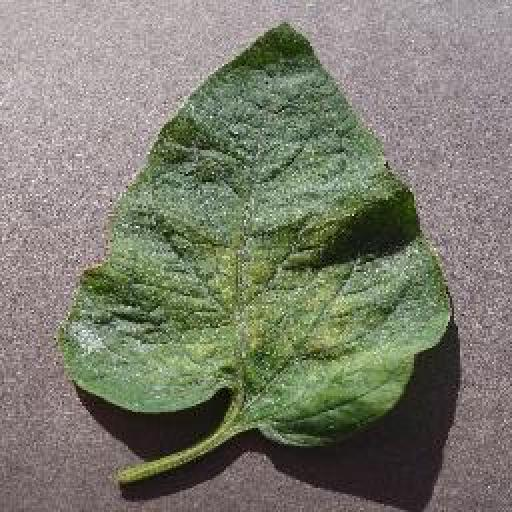Spider Mites: (58, 23, 450, 449)
